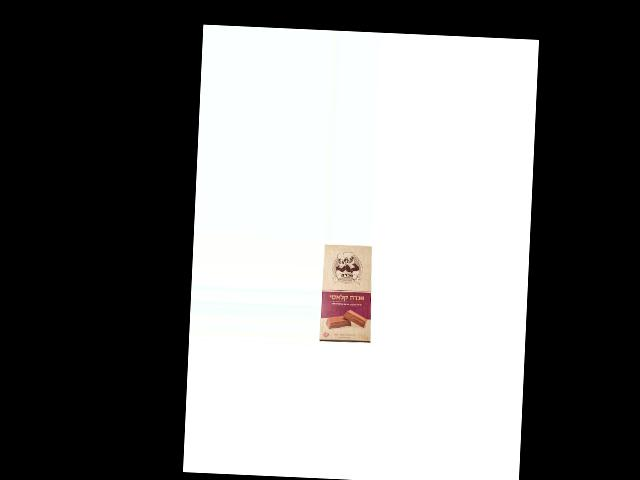chocolate: (321, 243, 376, 343)
